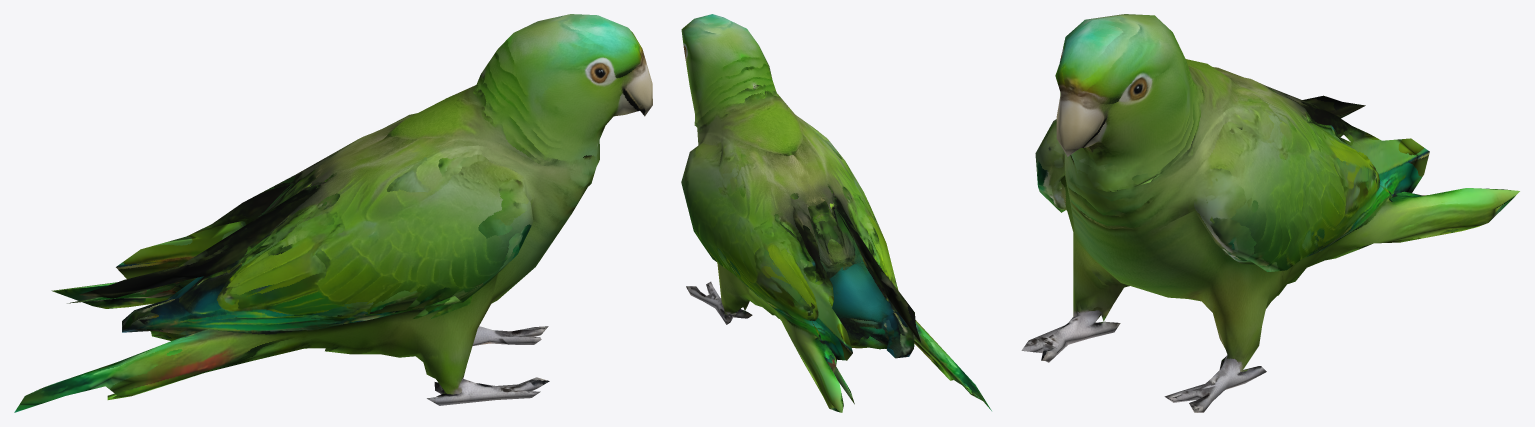
File: parrot_green_single_1500.glb
3 renders of one model, left to right at view 1: azimuth 30°, elevation 25°; view 2: azimuth 150°, elevation 25°; view 3: azimuth 270°, elevation 25°, orthographic. The views are drawn at different scales.
Bounding box in the file's own units: 0.8602 × 0.5414 × 0.6181.
Materials: 1 (1 with a texture image).
